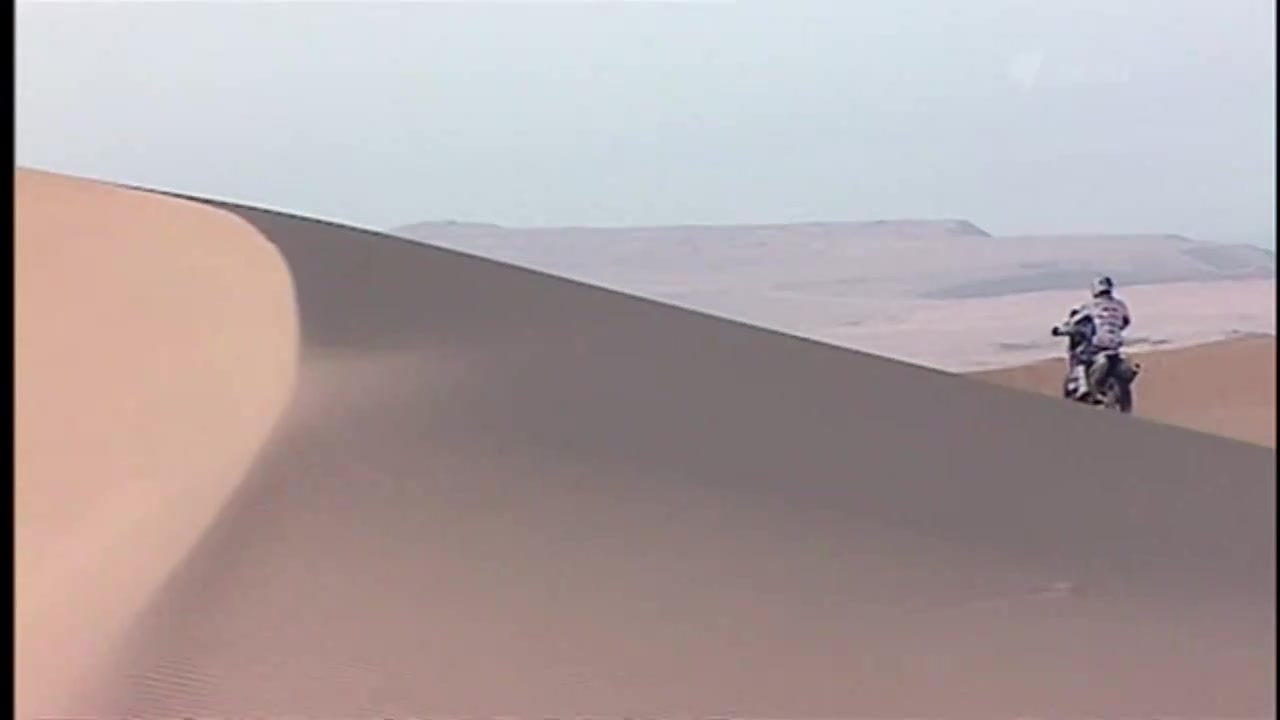motorbike: (1053, 308, 1143, 415)
